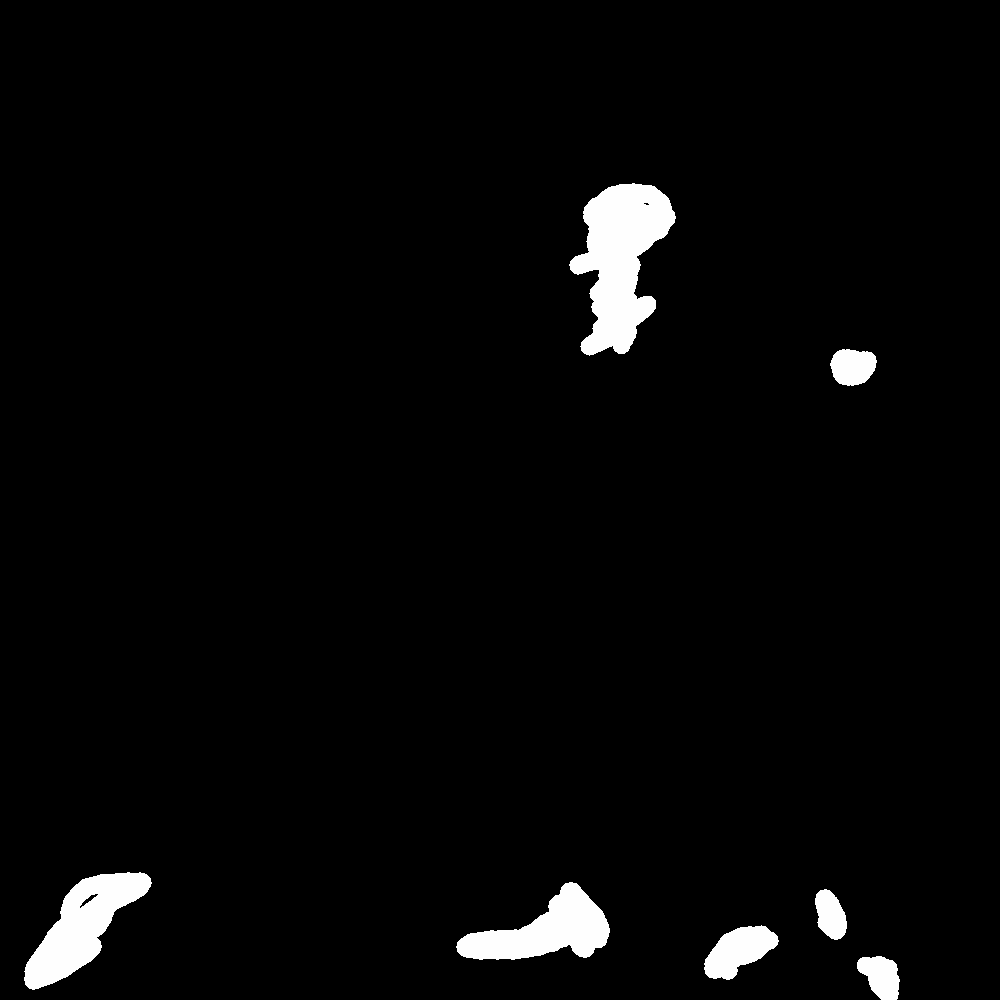illegal: (1, 735, 760, 1000), (729, 593, 807, 860)
